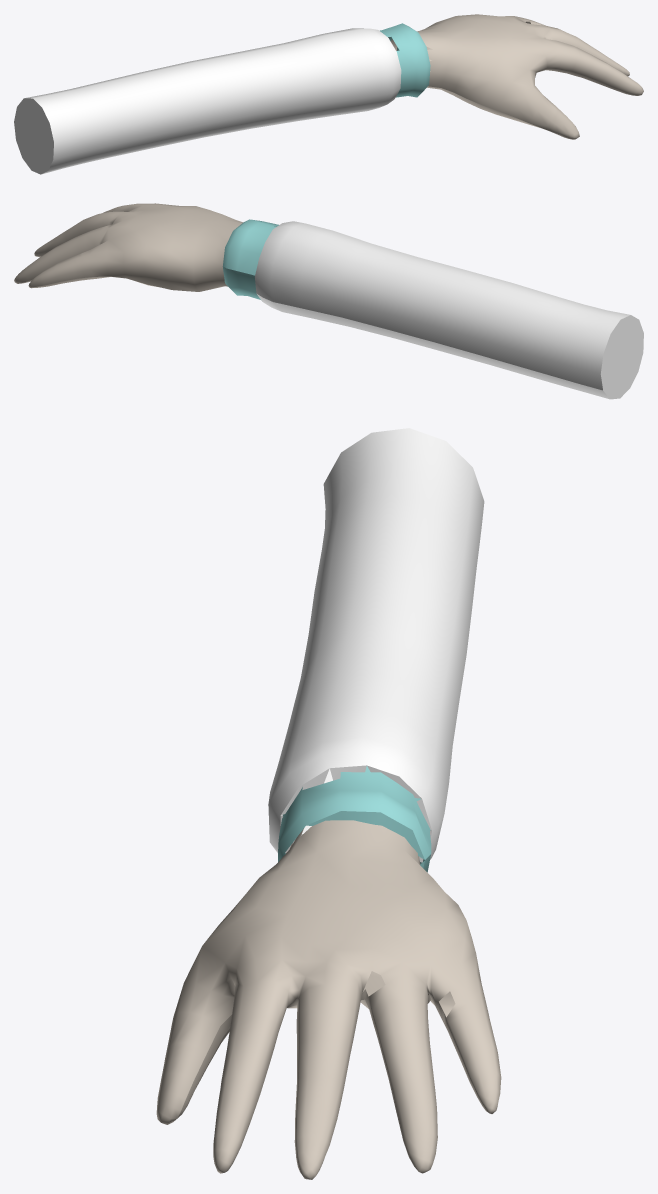
Rendered from CodoIzq.obj.
The picture shows the model from 3 angles, top to bottom: view 1: azimuth 30°, elevation 25°; view 2: azimuth 150°, elevation 25°; view 3: azimuth 270°, elevation 25°; orthographic projection. The views are drawn at different scales.
Visible parts, largest first — view 1: CodoIzq_Mesh_Body_0.001; view 2: CodoIzq_Mesh_Body_0.001; view 3: CodoIzq_Mesh_Body_0.001.
Part boxes in pixels (x1,y1,x2,y2): CodoIzq_Mesh_Body_0.001: (14,14,643,174); CodoIzq_Mesh_Body_0.001: (14,203,643,399); CodoIzq_Mesh_Body_0.001: (156,428,501,1179).
Bounding box in the file's own units: 0.5336 × 0.102 × 0.1392.
1 material, 1 textured.
